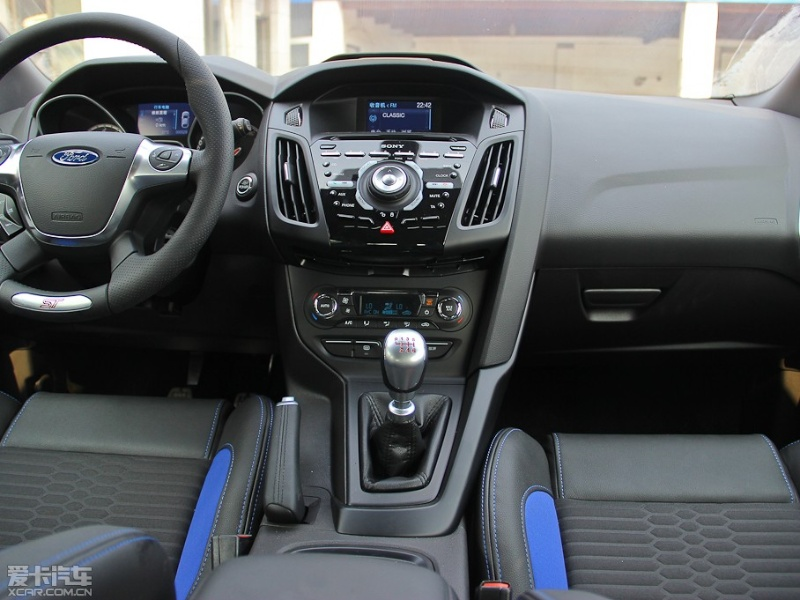control_center: (272, 55, 545, 319)
gear_lever: (242, 334, 470, 533)
odometer: (40, 66, 264, 143)
steering_wheel: (9, 13, 257, 314)
